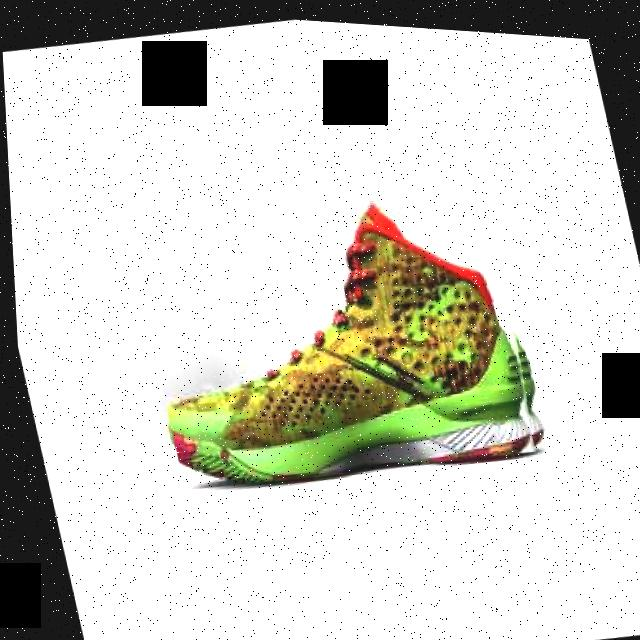shoe: (121, 160, 548, 507)
